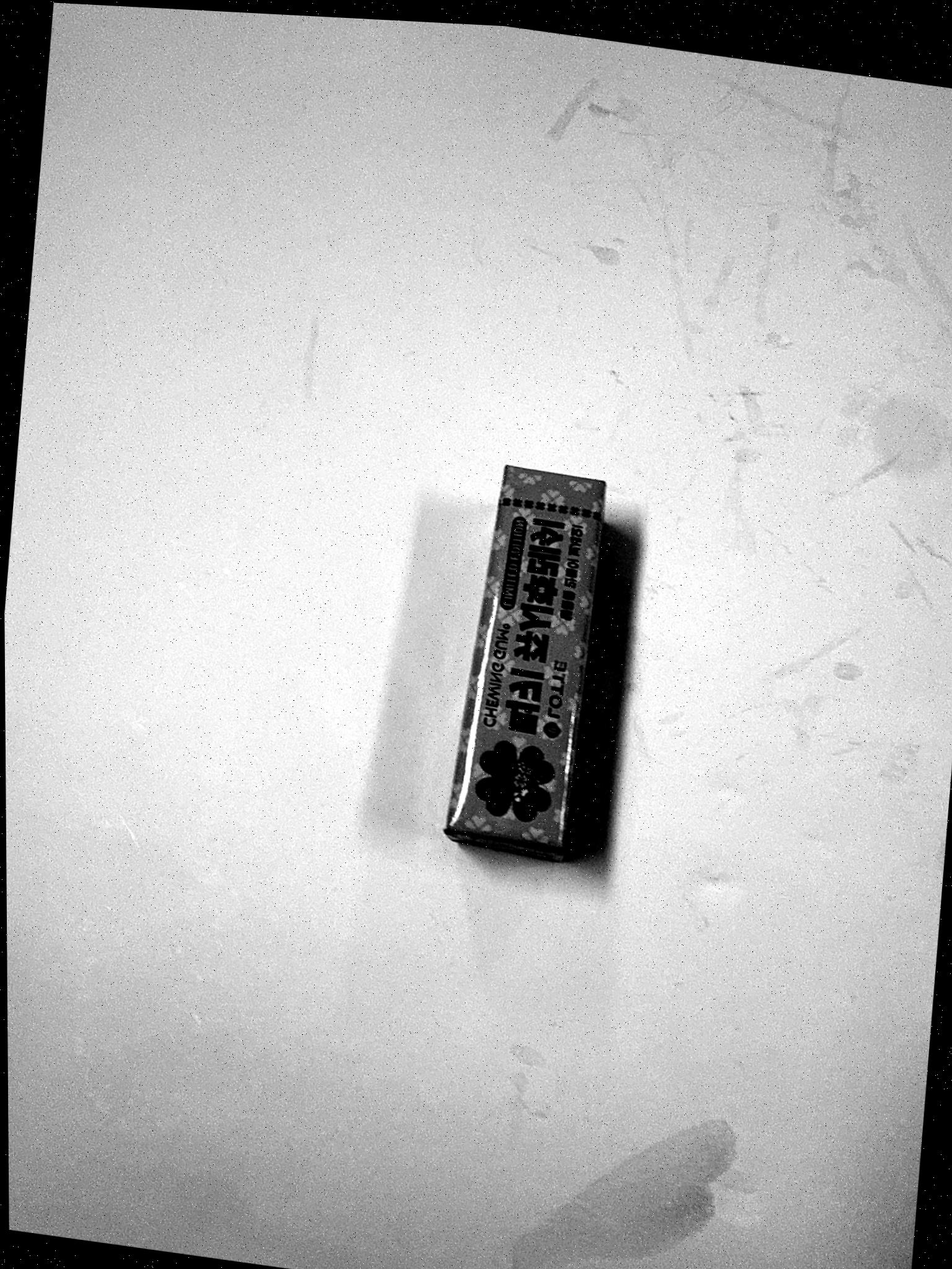gum_yellow: (448, 465, 602, 862)
